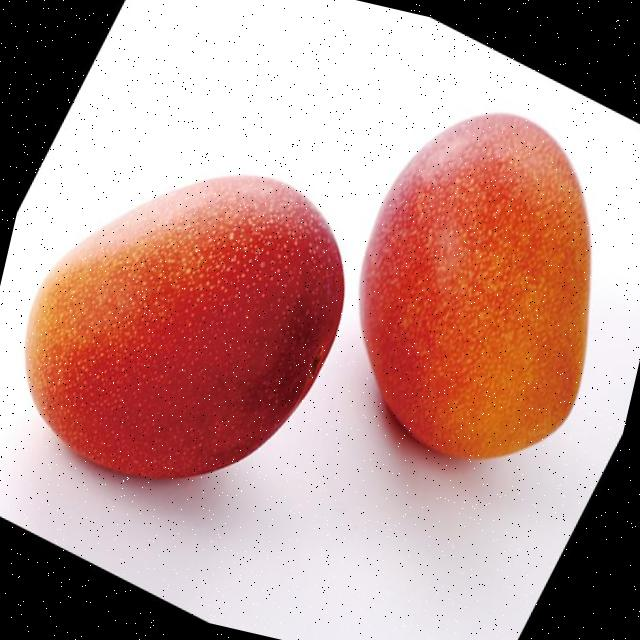mango: (24, 175, 344, 479), (362, 113, 591, 459)
